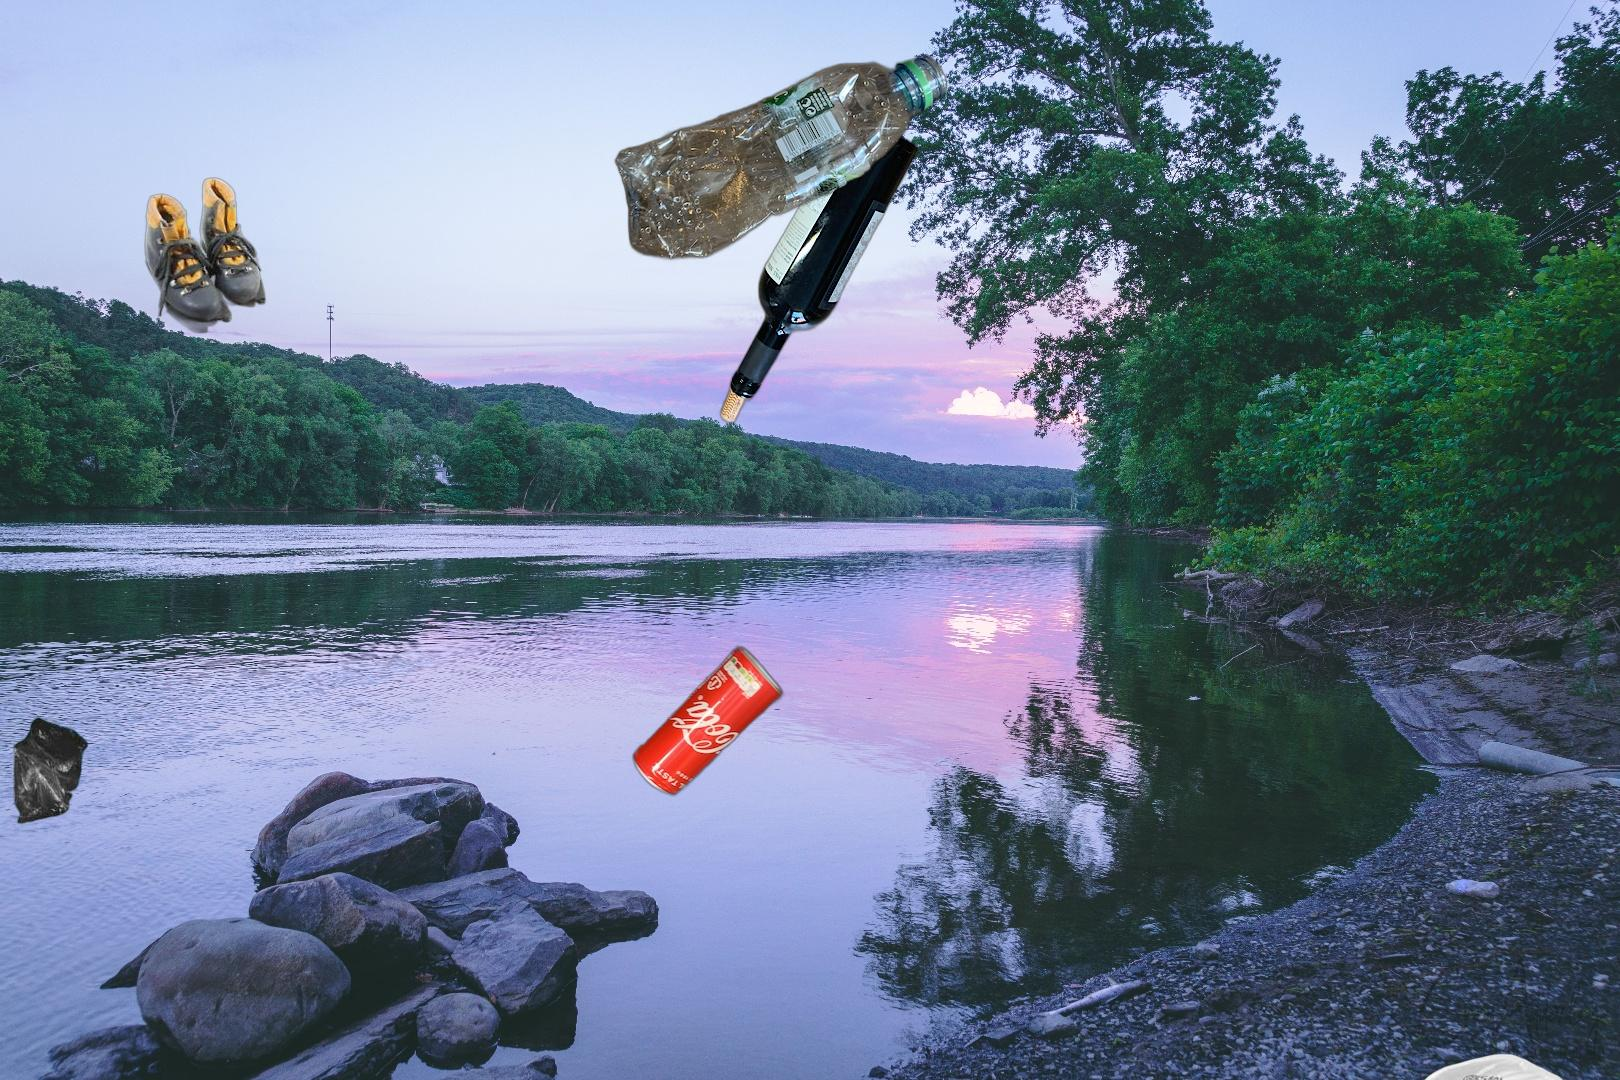glass: (715, 108, 922, 429)
metal-cans: (629, 640, 788, 802)
plastic-bag: (11, 714, 231, 827)
plastic-bottles: (612, 49, 950, 263)
shoes: (142, 175, 269, 336)
trash: (1409, 1051, 1586, 1080)
